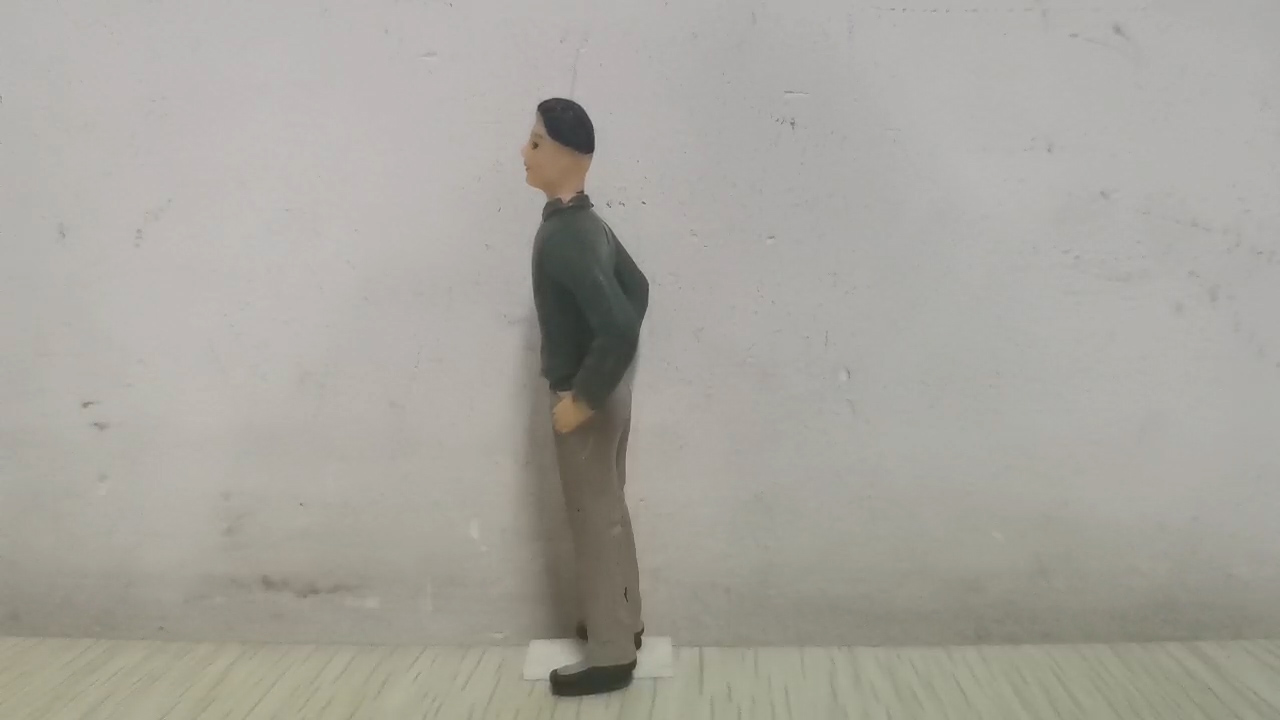person: (518, 93, 653, 700)
